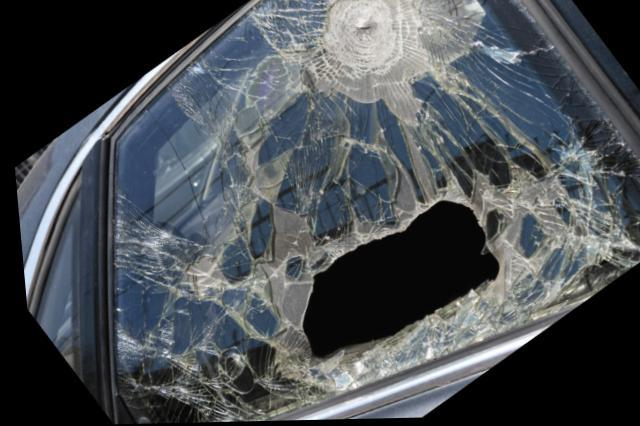glass shatter: (108, 0, 640, 425)
